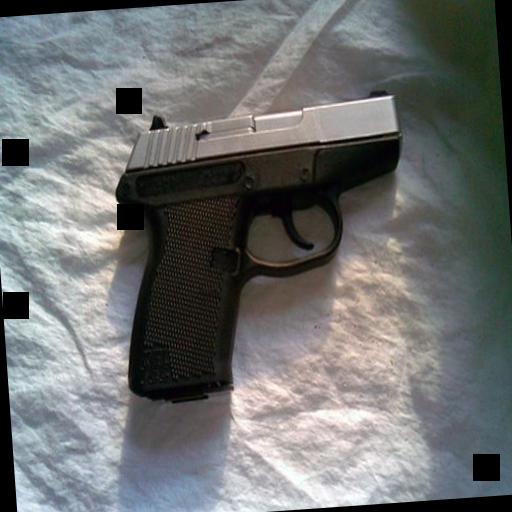Handgun: (110, 84, 420, 404)
